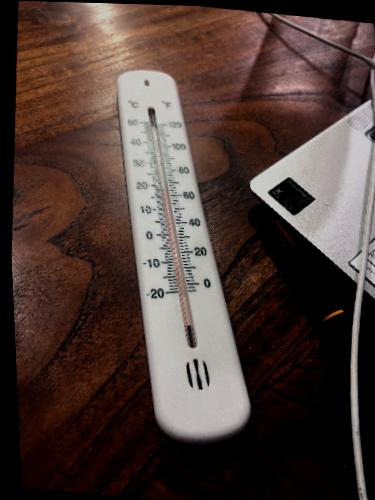thermo: (115, 59, 258, 452)
